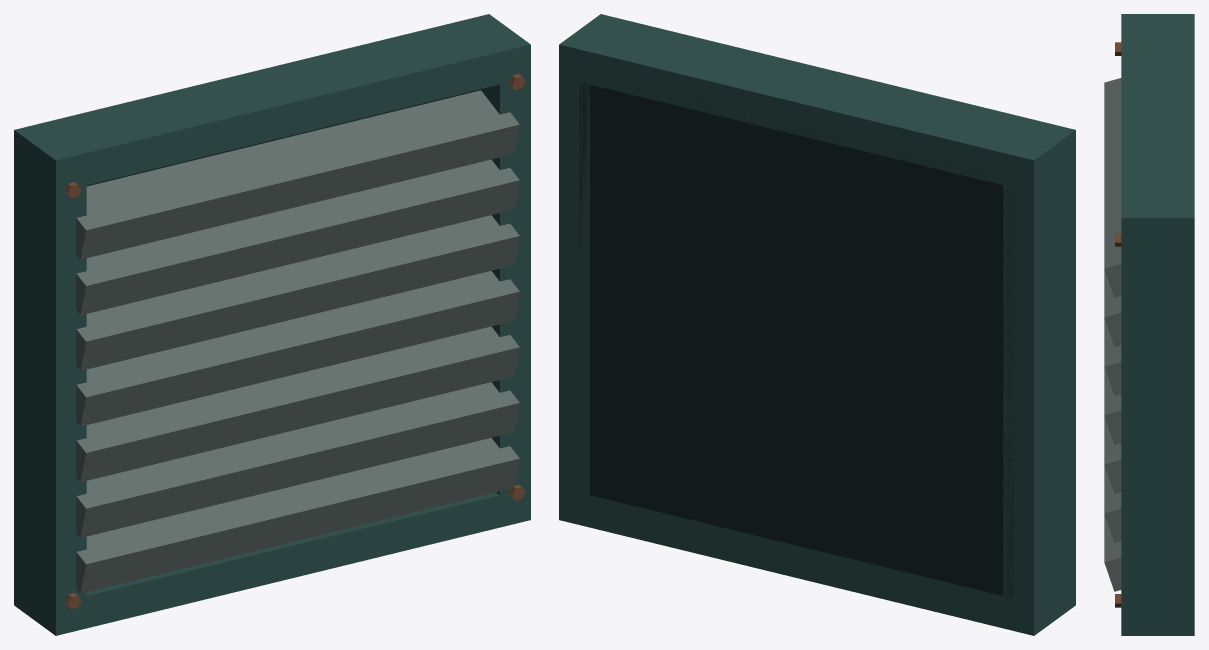
File: lv119-wall-vent.glb
3 views of the same model, side by side, from view 1: azimuth 30°, elevation 25°; view 2: azimuth 150°, elevation 25°; view 3: azimuth 270°, elevation 25° (orthographic). The views are drawn at different scales.
Parts seen in each view (by area): view 1: wall-vent; view 2: wall-vent; view 3: wall-vent.
Part boxes in pixels (<box>): wall-vent: <box>14,14,530,635</box>; wall-vent: <box>559,14,1075,635</box>; wall-vent: <box>1104,14,1194,635</box>.
Bounding box in the file's own units: 0.92 × 0.88 × 0.1724.
